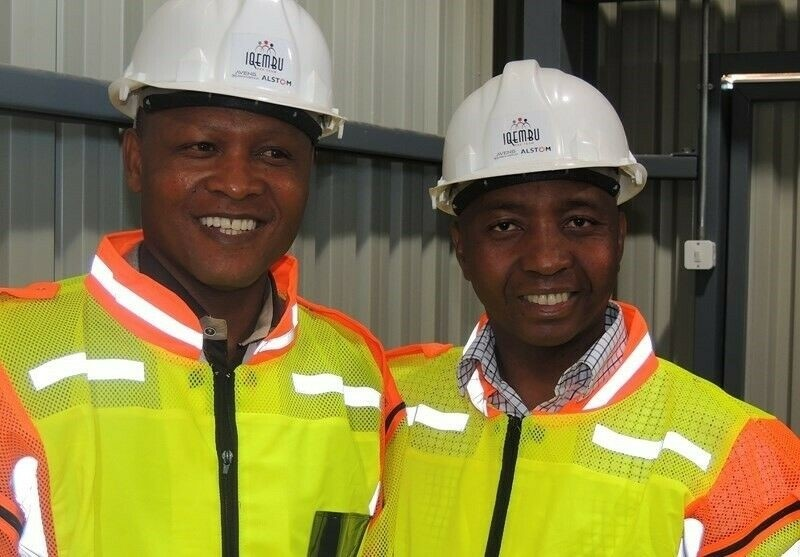face_no_mask: (128, 76, 320, 299), (455, 157, 625, 348)
